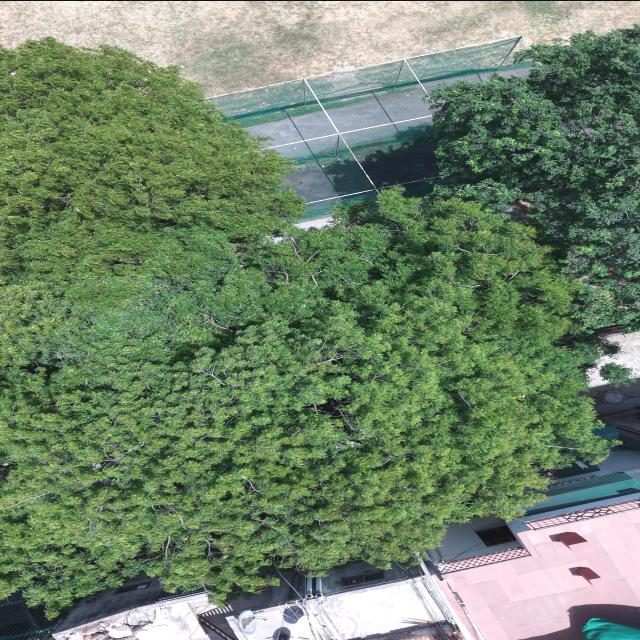DRY_AREA: (0, 1, 639, 95)
ROOFTOP_BUILDING: (53, 371, 639, 639), (53, 447, 639, 639), (429, 370, 639, 639), (430, 448, 639, 639), (53, 561, 458, 639)
VEGETATION_TREE: (0, 39, 607, 614), (433, 25, 639, 328), (599, 362, 635, 386)
